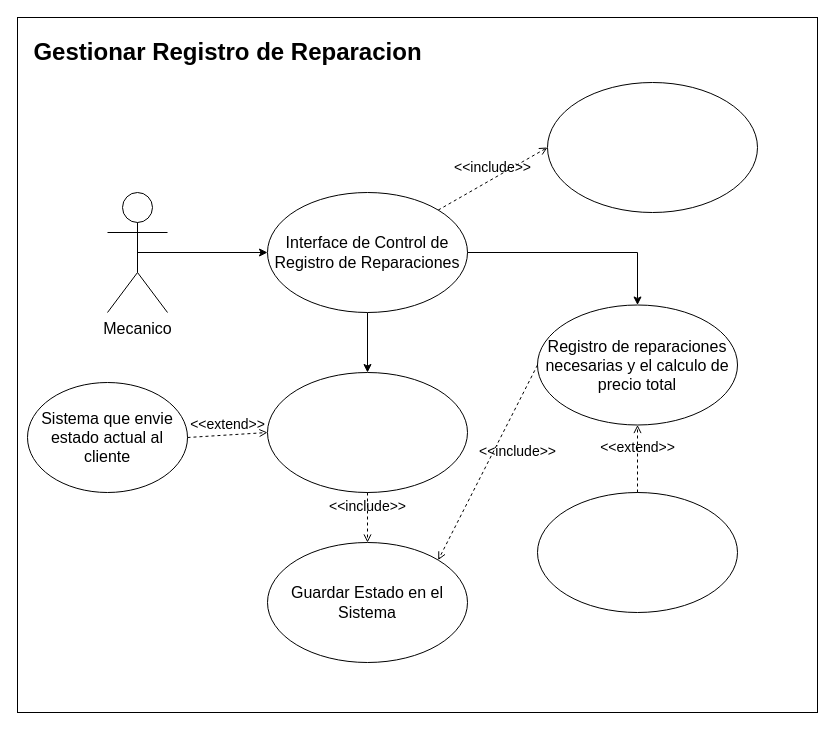
The diagram is 835 pixels wide and 730 high, and some of its shapes have lost their labels. Each missing label, with the box of its shape:
Informacion de la base de datos del taller: (546, 82, 758, 212)
Precios de los Repuestos y de la reparacion: (536, 492, 738, 612)
Seleccion de la Etapa Actual del proceso de reparacion: (266, 372, 468, 492)
